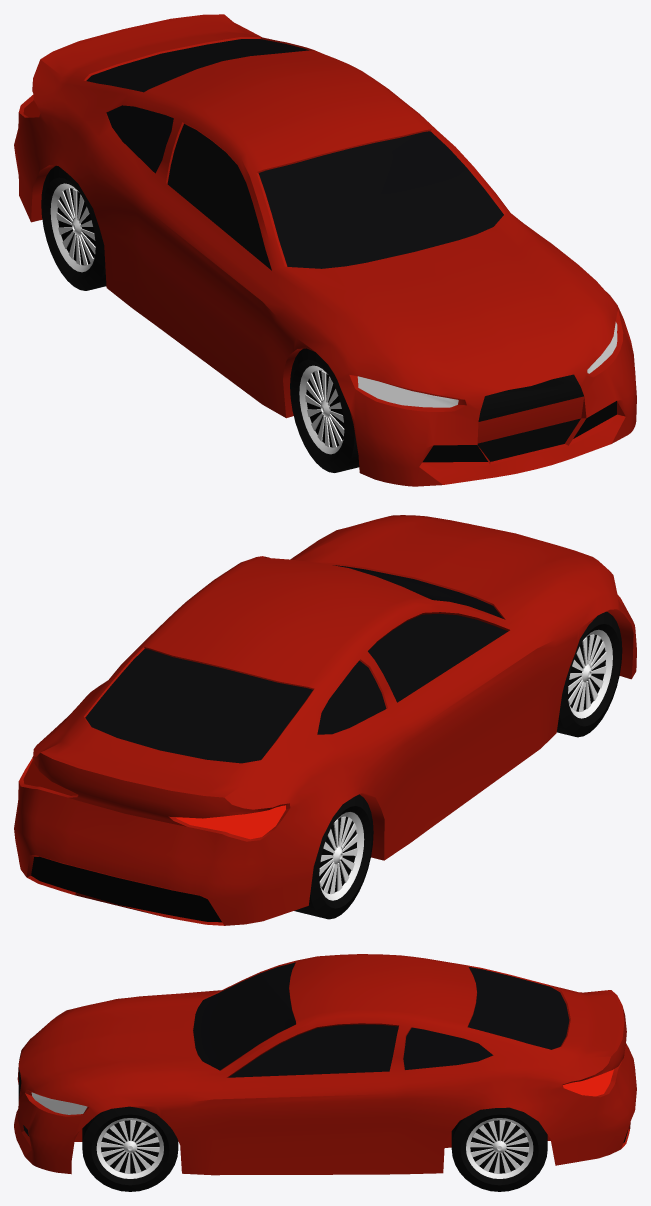
3 renders of one model, top to bottom at view 1: azimuth 30°, elevation 25°; view 2: azimuth 150°, elevation 25°; view 3: azimuth 270°, elevation 25°, orthographic. The views are drawn at different scales.
Visible parts, largest first — view 1: Cube, Cylinder.002, Cylinder.001; view 2: Cube, Cylinder.001, Cylinder.002; view 3: Cube, Cylinder.004, Cylinder.003.
Boxes of the visible parts, x1,y1,x2,y2 form: Cube: (14,14,636,486); Cylinder.002: (290,348,359,472); Cylinder.001: (41,165,106,290); Cube: (14,515,636,925); Cylinder.001: (294,794,373,919); Cylinder.002: (557,611,622,737); Cube: (14,954,636,1175); Cylinder.004: (451,1107,547,1191); Cylinder.003: (82,1106,178,1191).
Size of the model in its own units: 387 by 288 by 985.
Materials: 2 (2 with a texture image).
